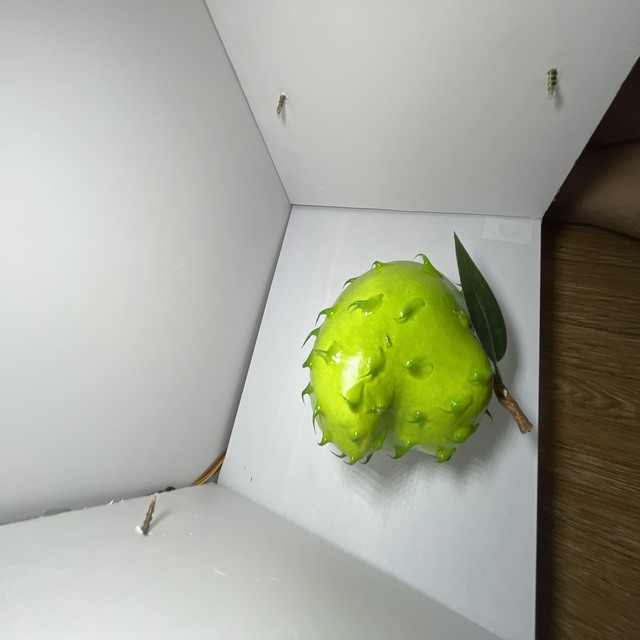Man cau: (296, 244, 518, 476)
